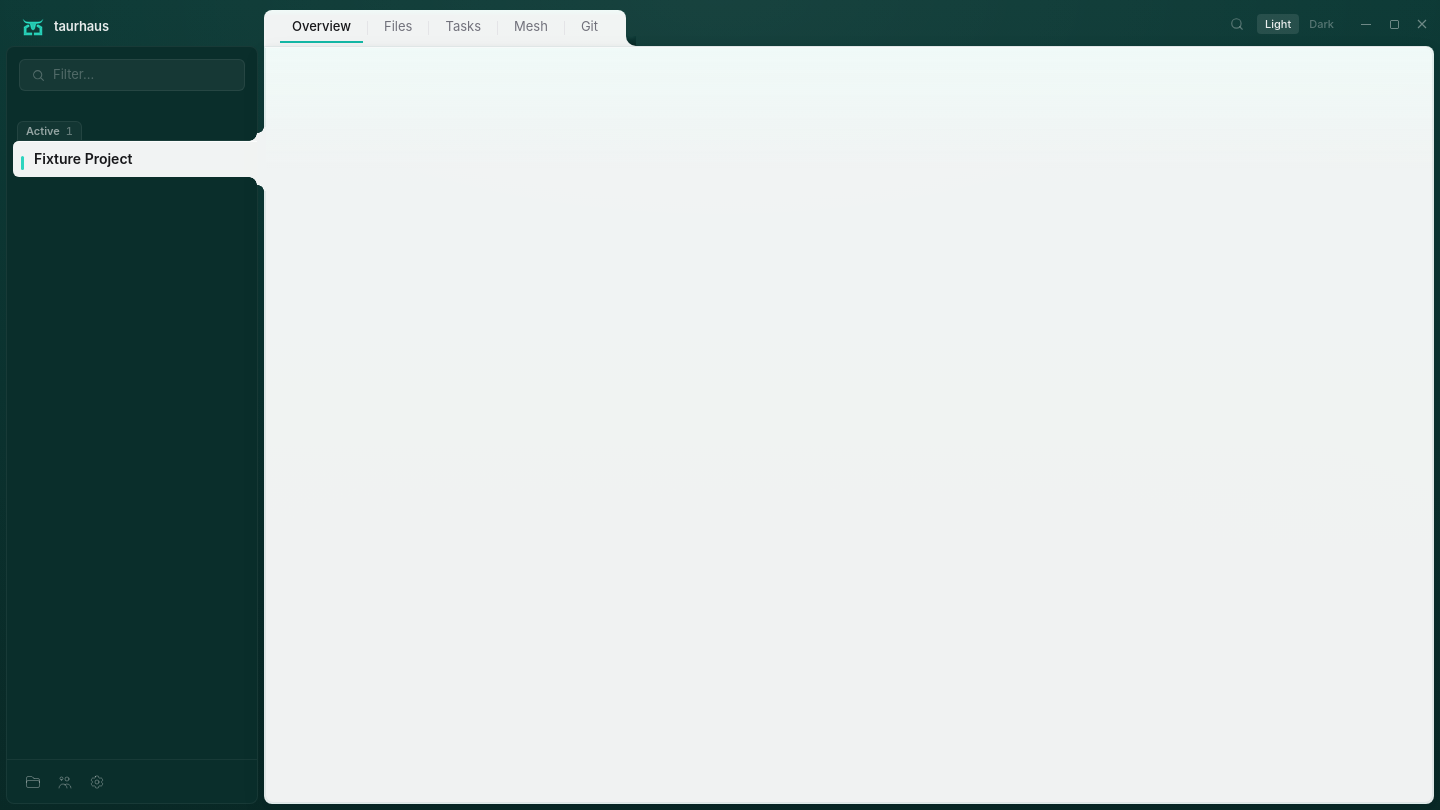
Scenario: Shell utility-surface state machine › toggles the Projects takeover from the footer key
This screenshot has width=1440, height=810.
Click the button with test id "manage-projects-btn". click: point(33, 782)
box: [19,768,47,796]
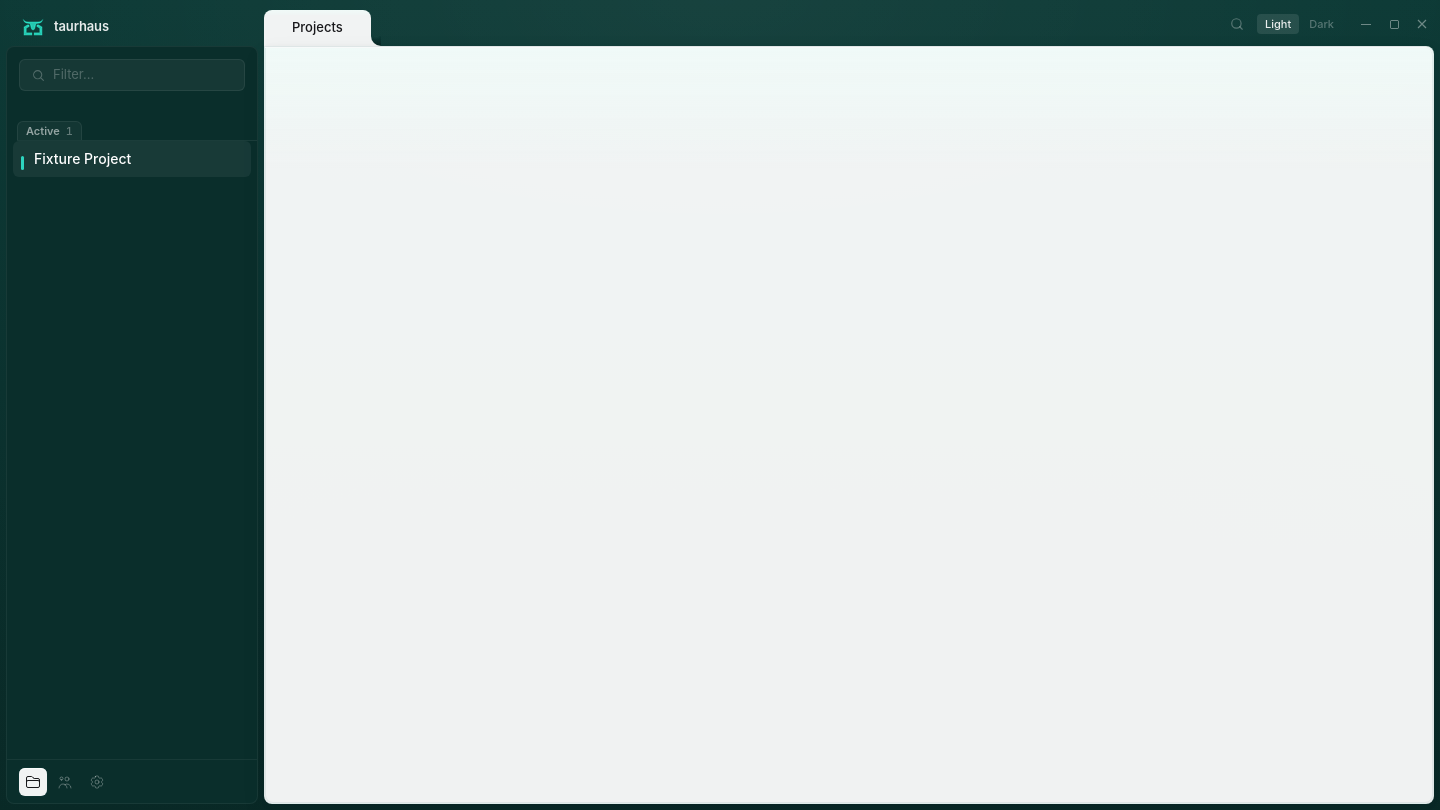
Click the button with test id "manage-projects-btn". click: point(33, 782)
box: [19,768,47,796]
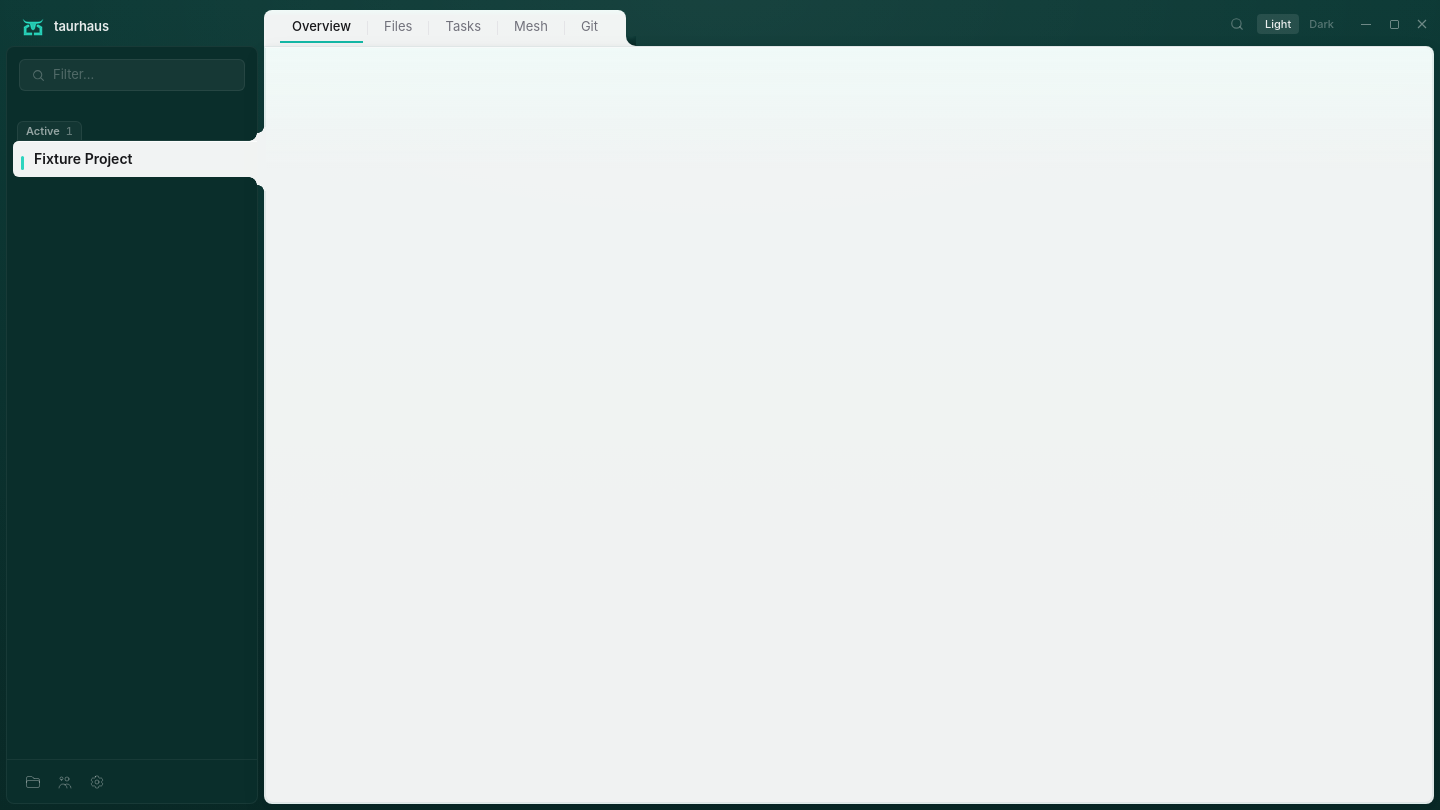
Expected: the tab "Overview" is shown, [280,13,363,43]
